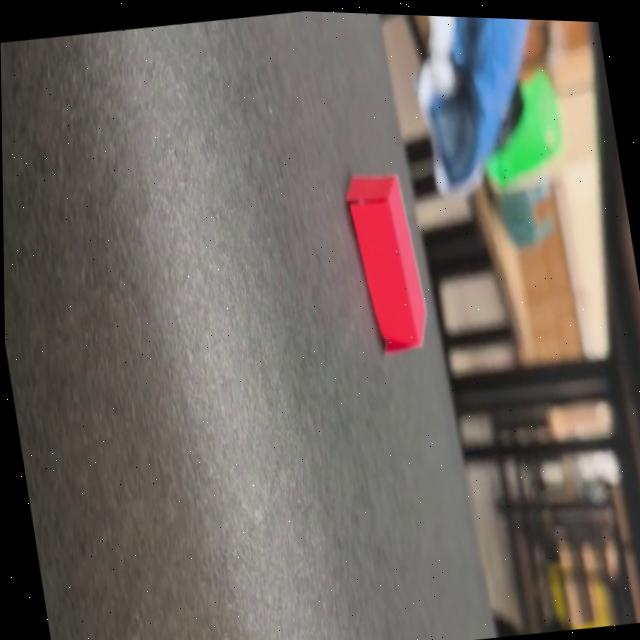red block: (342, 165, 435, 357)
